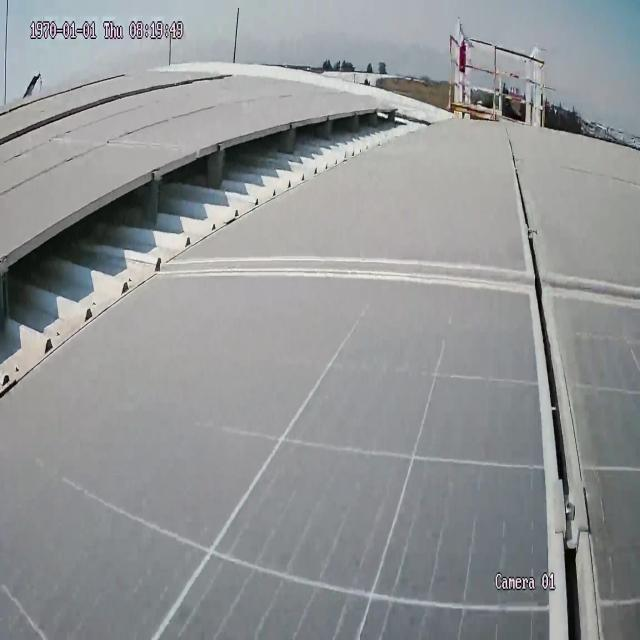interior panel: (153, 113, 640, 640), (0, 97, 225, 210)
outher panel: (0, 102, 451, 408), (0, 70, 238, 151), (2, 68, 130, 122)
